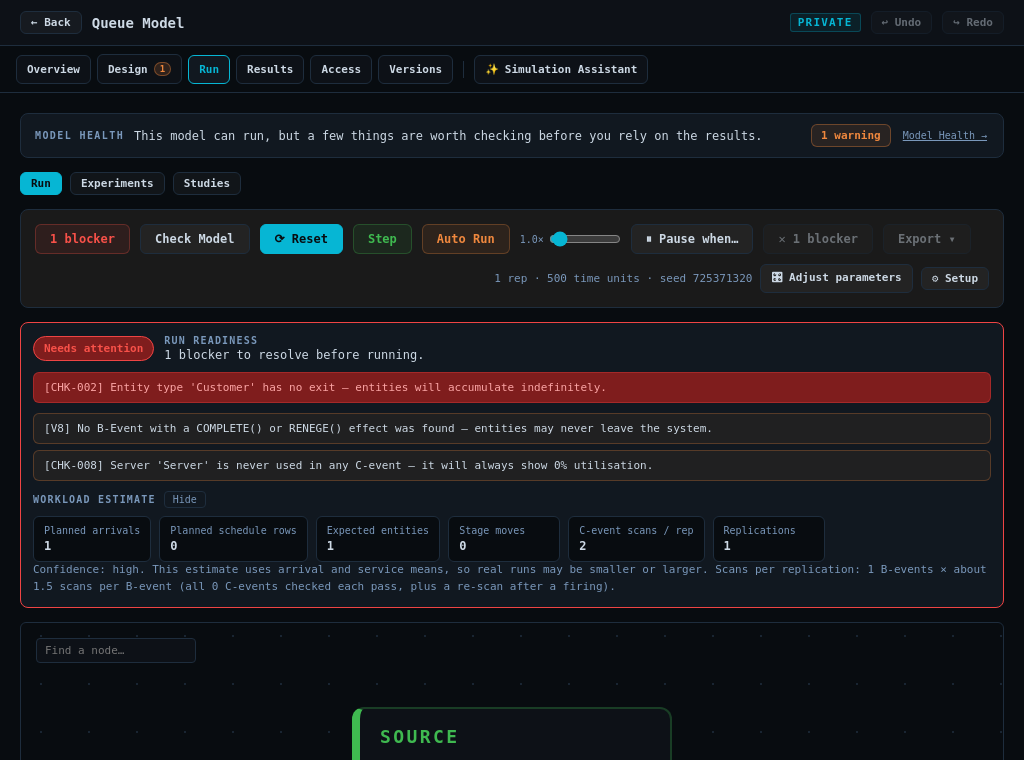
Scenario: accessibility pass › does not mark the model dirty when Execute writes the same experiment defaults back
# The run controls bar now exposes the setup panel via the "⚙ Setup" toggle.
What coordinates should you click on to do the following:
click the button "⚙ Setup"
I would click on:
 (955, 278)
Its box is [921, 267, 989, 290].
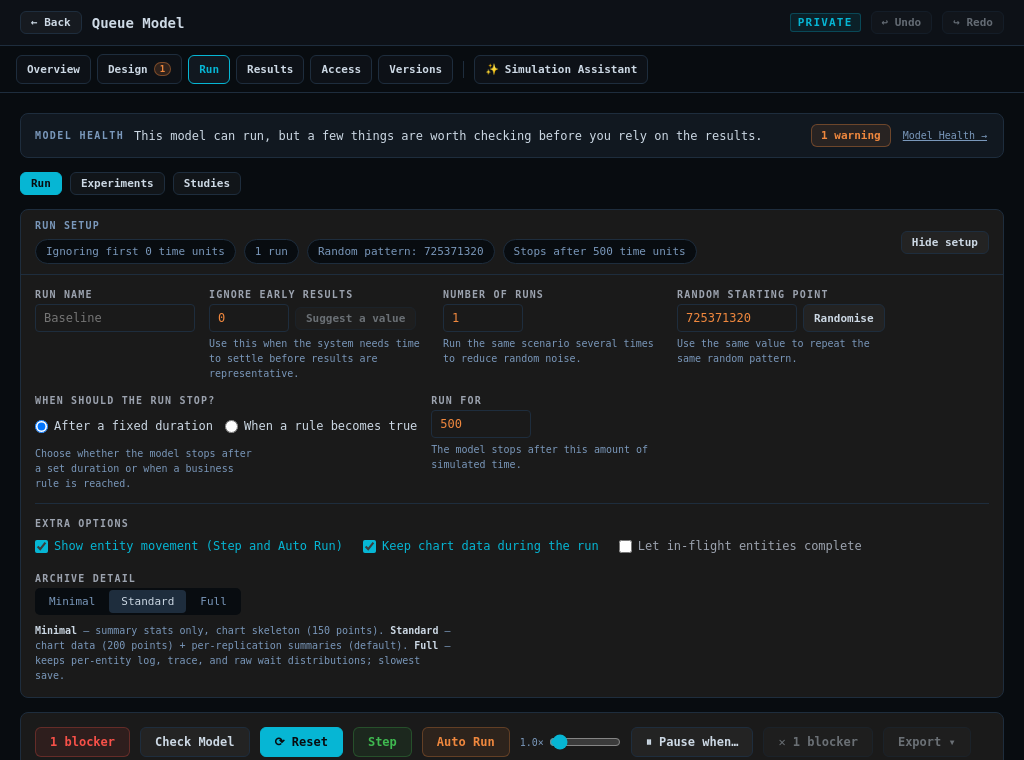
Expected: the button "Hide setup" is shown, [901, 230, 989, 254]
